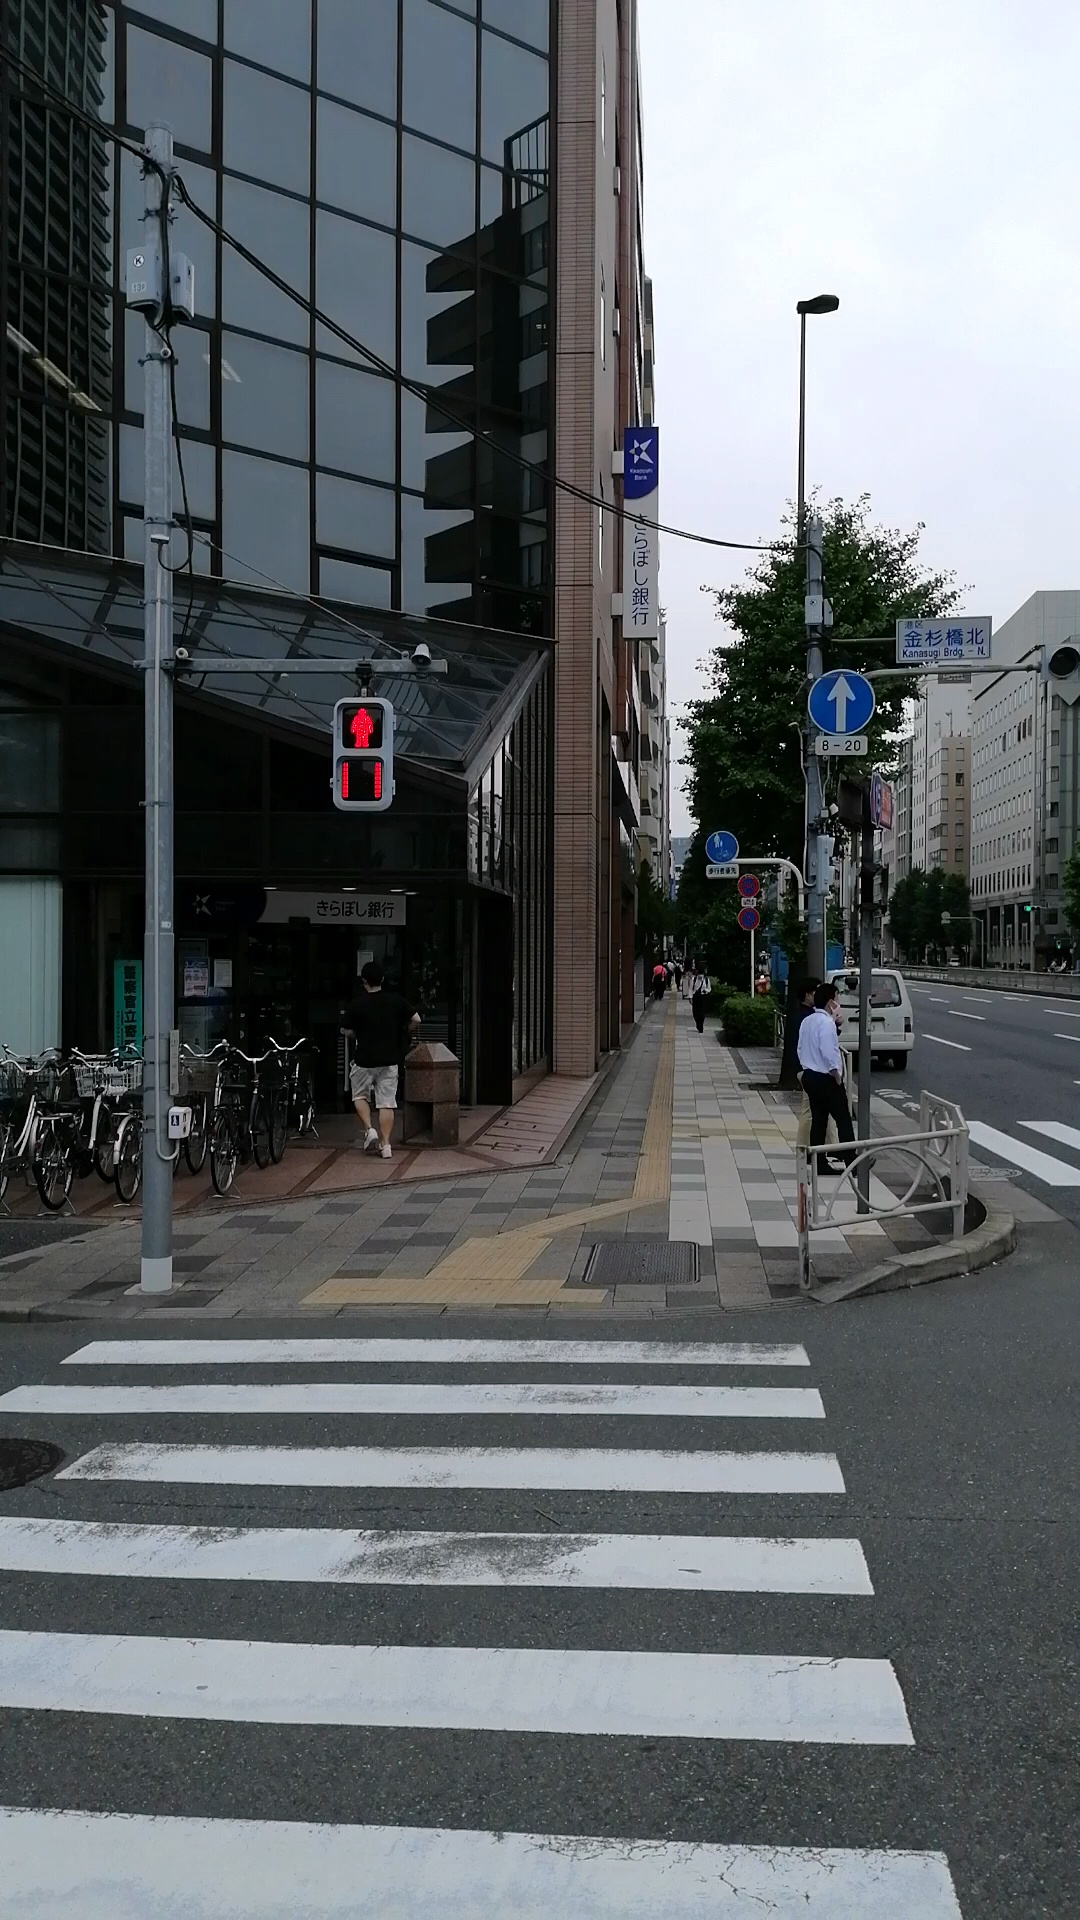red: (332, 698, 393, 814)
